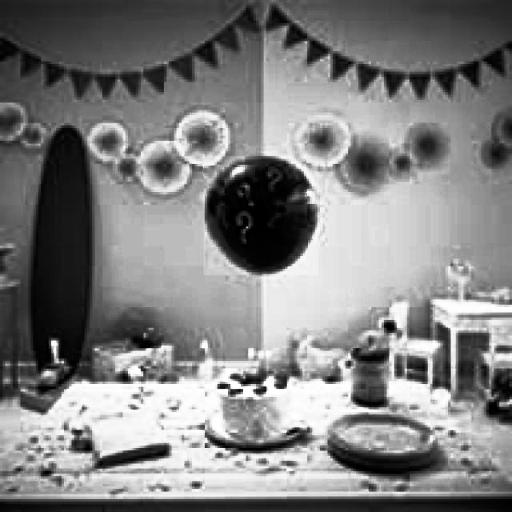balloon: (204, 156, 318, 275)
